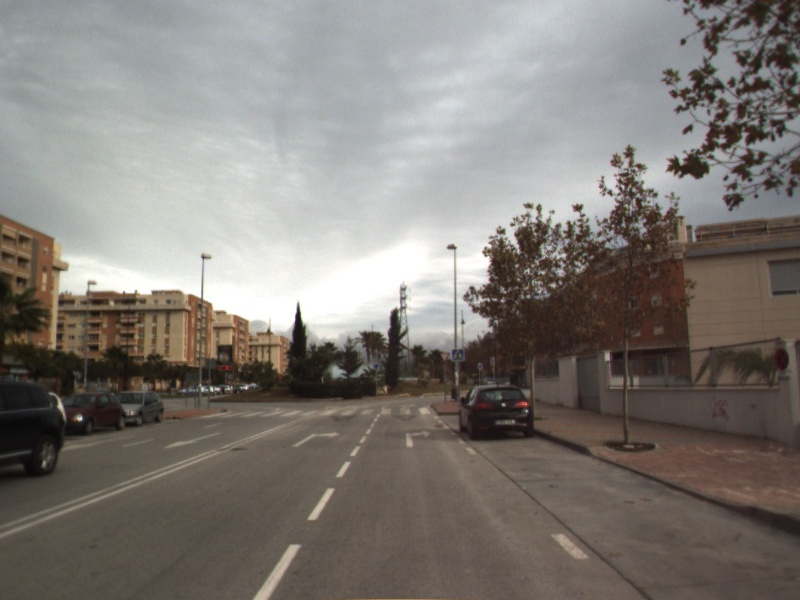RIGHT: (290, 429, 341, 449), (403, 427, 434, 449)
